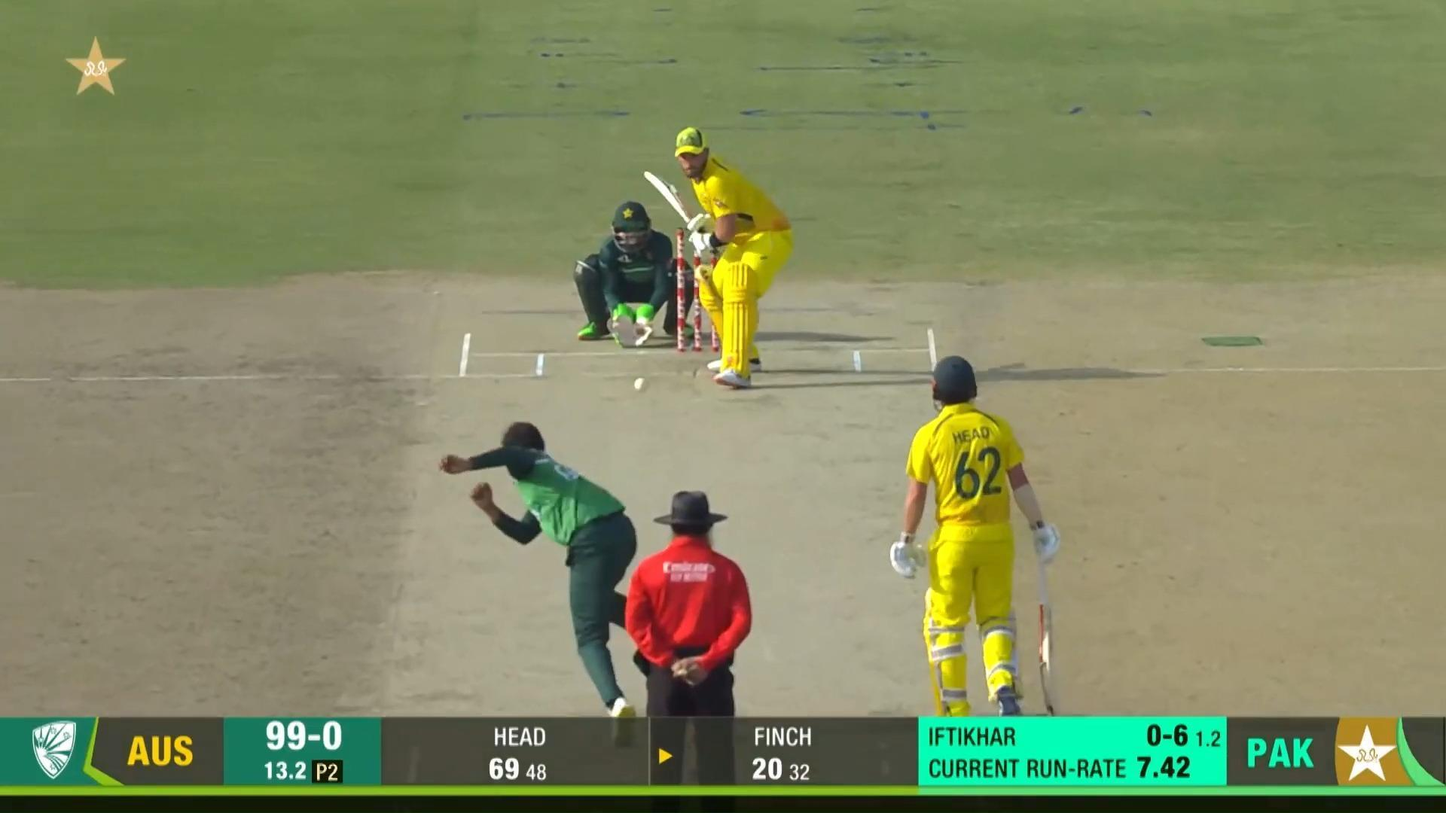BM 1: (642, 128, 793, 389)
BO: (440, 421, 638, 717)
